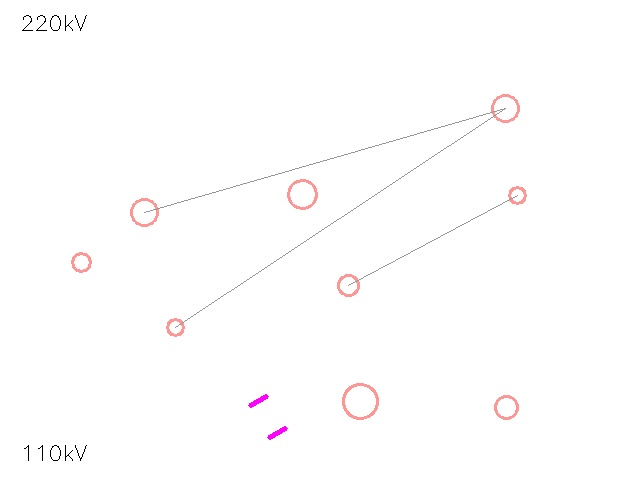capacitor: (237, 386, 299, 448)
current_transformer: (479, 82, 531, 134), (327, 264, 369, 306), (501, 179, 533, 211)
fuse: (62, 243, 100, 281), (158, 310, 192, 344)
reactor: (273, 165, 331, 223)
surge_arrester: (326, 367, 394, 435), (117, 185, 171, 239)
voltage_transformer: (484, 385, 528, 429)
